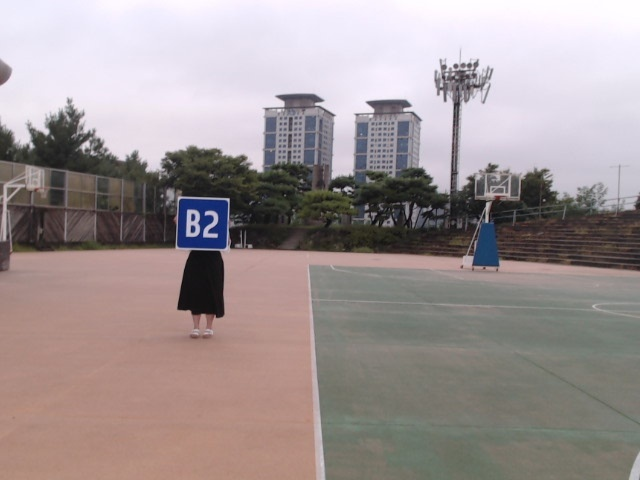delivery_b2: (176, 198, 230, 251)
